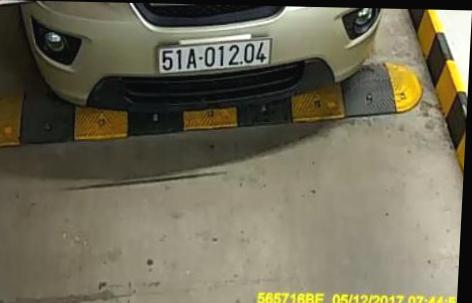License_Plate: (154, 36, 278, 78)
